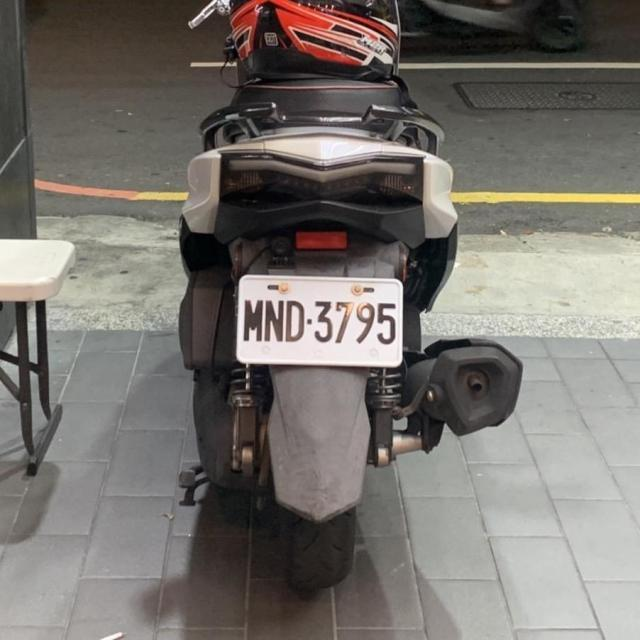W: (232, 270, 408, 371)
